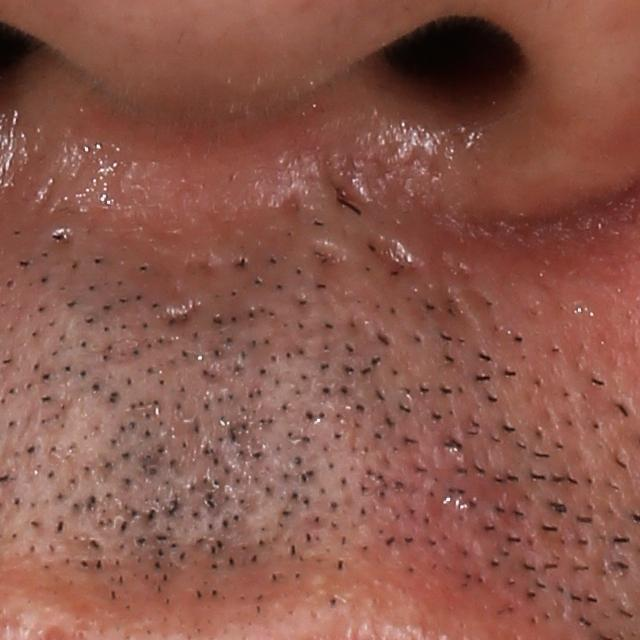atrophic_scar: (366, 233, 422, 276), (325, 160, 371, 209), (308, 240, 351, 280), (162, 299, 202, 330), (277, 189, 308, 225)
